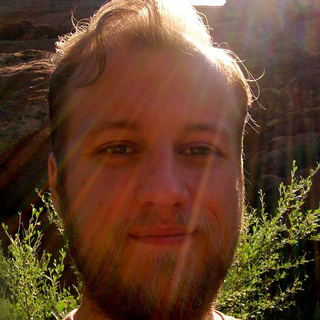eye: (88, 139, 144, 161), (173, 140, 224, 161)
